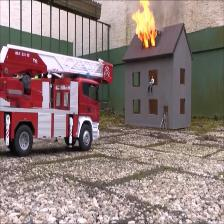fire: (131, 0, 159, 46)
